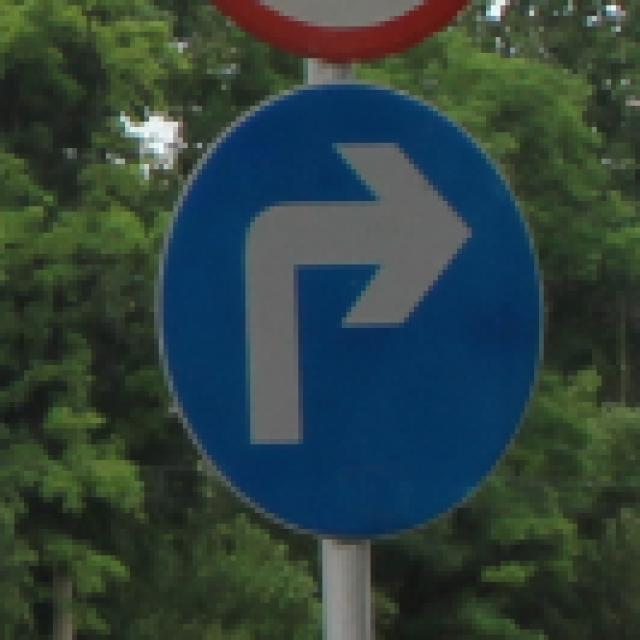Right: (160, 66, 559, 532)
